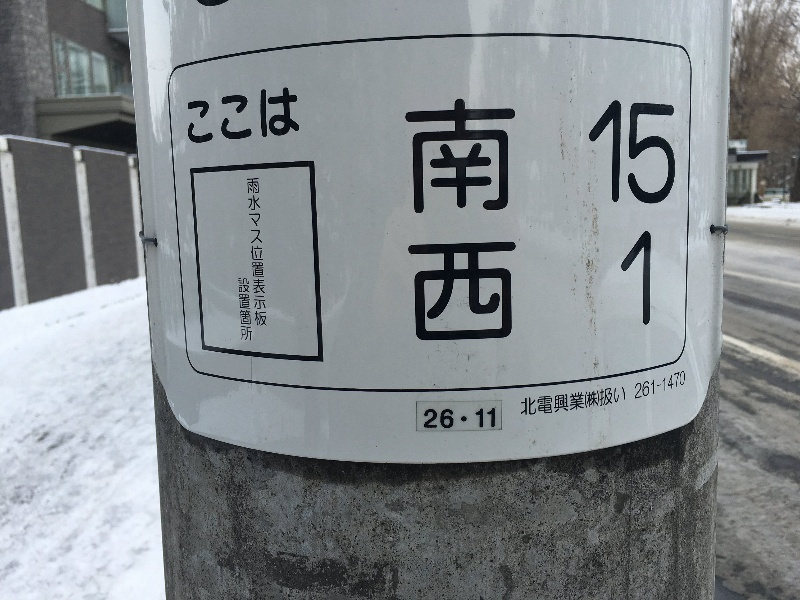text: (417, 99, 432, 342), (433, 99, 448, 342), (449, 99, 464, 342), (465, 99, 480, 342), (481, 99, 496, 342), (497, 99, 512, 342), (513, 99, 526, 342), (405, 99, 416, 342), (593, 101, 608, 207), (609, 101, 624, 207), (625, 101, 640, 207), (641, 101, 656, 207), (657, 101, 672, 207), (257, 178, 267, 327), (625, 232, 640, 325), (247, 178, 256, 327), (641, 232, 651, 325), (193, 88, 208, 150), (209, 88, 224, 150), (225, 88, 240, 150), (241, 88, 256, 150), (257, 88, 272, 150), (273, 88, 288, 150), (241, 279, 253, 341), (585, 101, 592, 207), (289, 88, 300, 150), (609, 386, 625, 418), (529, 386, 544, 418), (545, 386, 560, 418), (561, 386, 576, 418), (577, 386, 592, 418), (593, 386, 608, 418), (641, 370, 656, 399), (657, 370, 672, 399), (620, 232, 624, 325), (673, 370, 685, 399), (673, 101, 676, 207), (433, 408, 448, 429), (449, 408, 464, 429), (465, 408, 480, 429), (481, 408, 495, 429), (520, 386, 528, 418), (188, 88, 192, 150), (425, 408, 432, 429), (238, 279, 240, 341), (636, 370, 640, 399)
